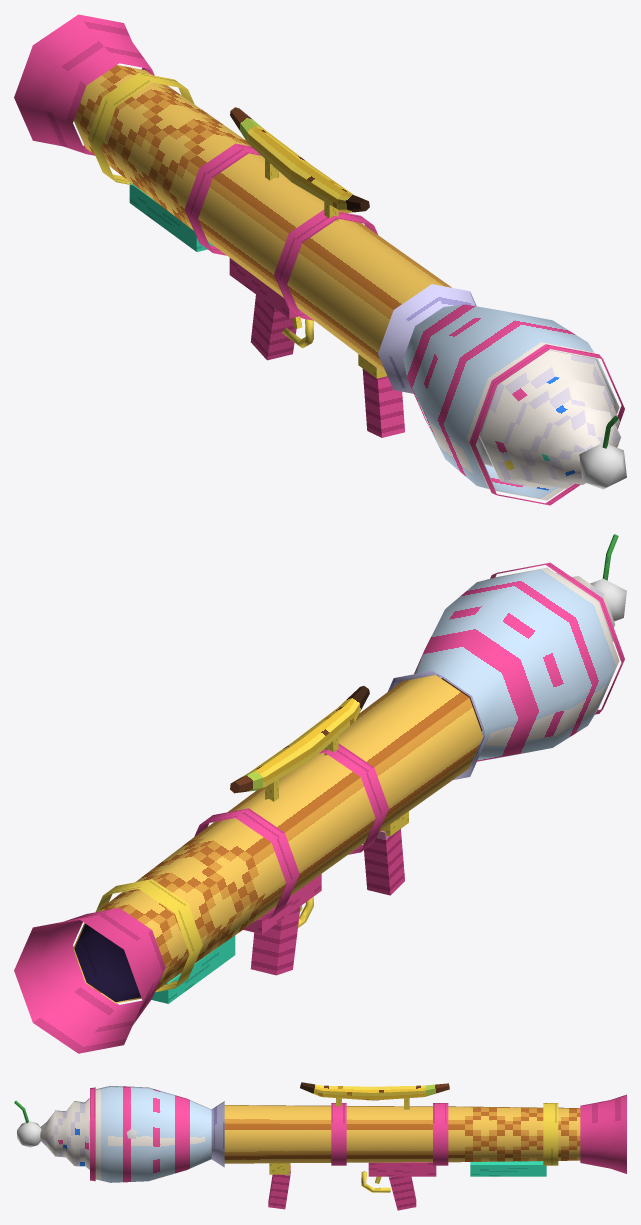
The model's file is Sundae Bazooka.fbx.
3 views of the same model, one above another, from view 1: azimuth 30°, elevation 25°; view 2: azimuth 150°, elevation 25°; view 3: azimuth 270°, elevation 25° (orthographic). The views are drawn at different scales.
Visible parts, largest first — view 1: Sundae Bazooka tube, Sundae Bazooka sundae glass, Sundae Bazooka rocket cream, Sundae Bazooka rear flare, Sundae Bazooka banana, Sundae Bazooka glass foot, Sundae Bazooka band 0.42, Sundae Bazooka front handle, Sundae Bazooka band -0.08, Sundae Bazooka band 0.16, Sundae Bazooka glass rim, Sundae Bazooka grip (+3 smaller); view 2: Sundae Bazooka tube, Sundae Bazooka sundae glass, Sundae Bazooka rear flare, Sundae Bazooka banana, Sundae Bazooka rear dark, Sundae Bazooka band 0.42, Sundae Bazooka band 0.16, Sundae Bazooka grip, Sundae Bazooka front handle, Sundae Bazooka band -0.08, Sundae Bazooka shoulder pad, Sundae Bazooka grip block (+3 smaller); view 3: Sundae Bazooka tube, Sundae Bazooka sundae glass, Sundae Bazooka rear flare, Sundae Bazooka rocket cream, Sundae Bazooka banana, Sundae Bazooka shoulder pad, Sundae Bazooka grip block, Sundae Bazooka band 0.16, Sundae Bazooka band 0.42, Sundae Bazooka band -0.08, Sundae Bazooka glass foot, Sundae Bazooka grip (+5 smaller).
Part boxes in pixels (x1,y1,x2,y2): Sundae Bazooka tube: (74,65,451,375); Sundae Bazooka sundae glass: (403,304,619,500); Sundae Bazooka rocket cream: (479,350,620,490); Sundae Bazooka rear flare: (14,14,154,155); Sundae Bazooka banana: (230,107,369,212); Sundae Bazooka glass foot: (378,284,476,393); Sundae Bazooka band 0.42: (88,73,194,185); Sundae Bazooka front handle: (362,369,404,437); Sundae Bazooka band -0.08: (274,209,377,320); Sundae Bazooka band 0.16: (184,143,260,255); Sundae Bazooka glass rim: (469,344,624,505); Sundae Bazooka grip: (250,294,296,360); Sundae Bazooka tube: (73,675,483,1003); Sundae Bazooka sundae glass: (414,567,619,761); Sundae Bazooka rear flare: (14,908,165,1053); Sundae Bazooka banana: (230,686,369,793); Sundae Bazooka rear dark: (74,924,140,1001); Sundae Bazooka band 0.42: (95,879,202,992); Sundae Bazooka band 0.16: (194,808,299,920); Sundae Bazooka grip: (250,906,300,975); Sundae Bazooka front handle: (363,829,404,895); Sundae Bazooka band -0.08: (319,743,388,854); Sundae Bazooka shoulder pad: (151,935,235,1003); Sundae Bazooka grip block: (243,874,321,934); Sundae Bazooka tube: (224,1105,580,1163); Sundae Bazooka sundae glass: (95,1086,211,1182); Sundae Bazooka rear flare: (580,1094,626,1173); Sundae Bazooka rocket cream: (40,1098,89,1169); Sundae Bazooka banana: (300,1082,449,1100); Sundae Bazooka shoulder pad: (470,1161,546,1176); Sundae Bazooka grip block: (368,1162,436,1176); Sundae Bazooka band 0.16: (433,1103,448,1165); Sundae Bazooka band 0.42: (543,1103,558,1165); Sundae Bazooka band -0.08: (331,1103,346,1165); Sundae Bazooka glass foot: (211,1101,224,1167); Sundae Bazooka grip: (389,1176,416,1210).
Size of the model in its own units: 0.244 by 0.3252 by 1.45.
Materials: 16 (12 with a texture image).
